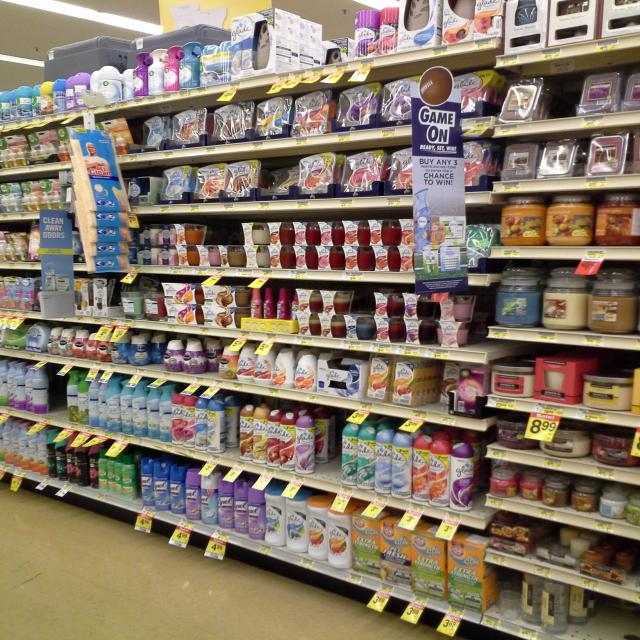empty: (534, 69, 584, 124), (564, 599, 637, 635), (310, 416, 351, 476)
